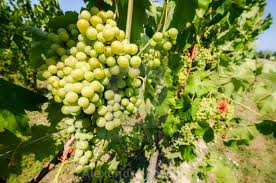grapes: (46, 60, 131, 124), (70, 11, 145, 77), (68, 118, 96, 174)
